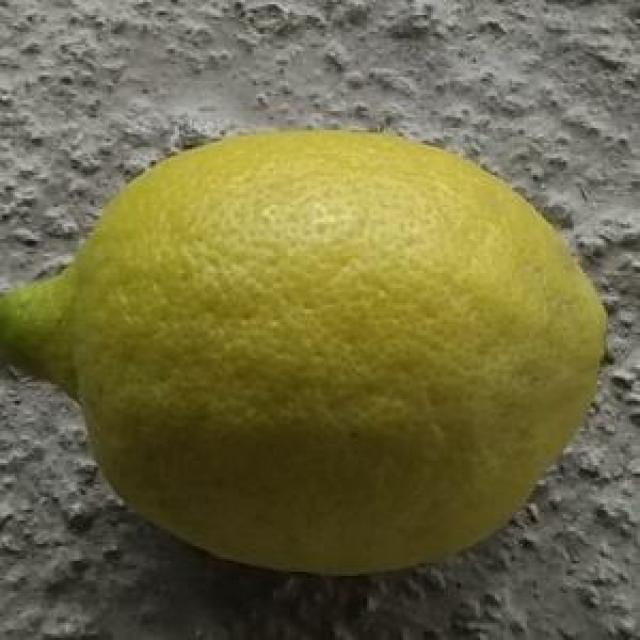lemon: (0, 125, 611, 578)
